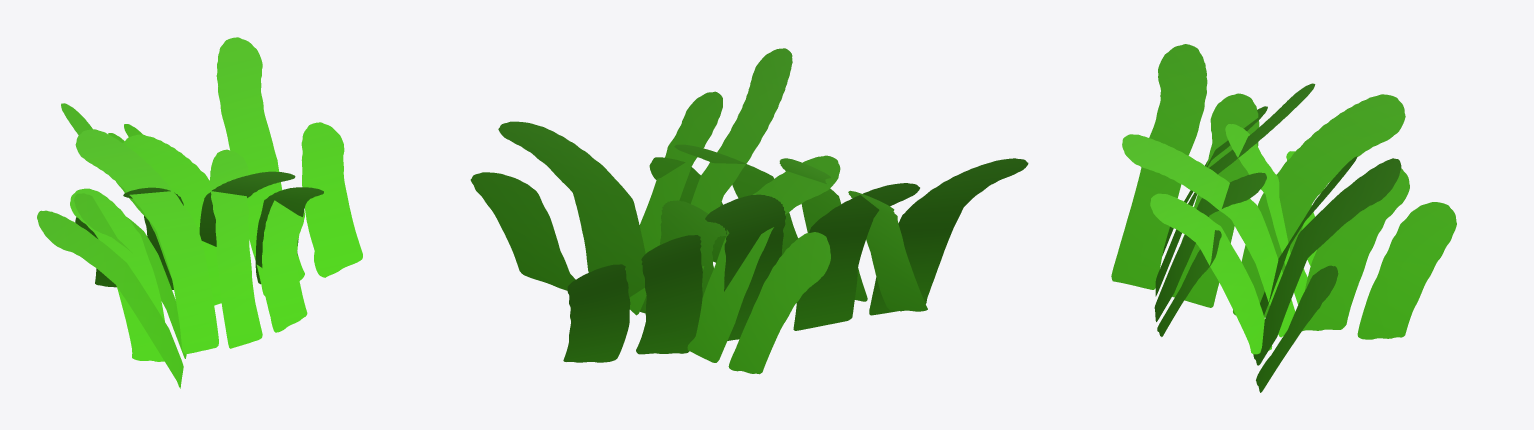
The model's file is Grass_1b.fbx.
3 views of the same model, side by side, from view 1: azimuth 30°, elevation 25°; view 2: azimuth 150°, elevation 25°; view 3: azimuth 270°, elevation 25° (orthographic). The views are drawn at different scales.
Parts seen in each view (by area): view 1: Grass_1b; view 2: Grass_1b; view 3: Grass_1b.
Boxes of the visible parts, left/top/right/bottom form: Grass_1b: left=37, top=37, right=362, bottom=388; Grass_1b: left=470, top=48, right=1028, bottom=374; Grass_1b: left=1111, top=44, right=1456, bottom=392.
Bounding box in the file's own units: 28.62 × 15.3 × 25.92.
